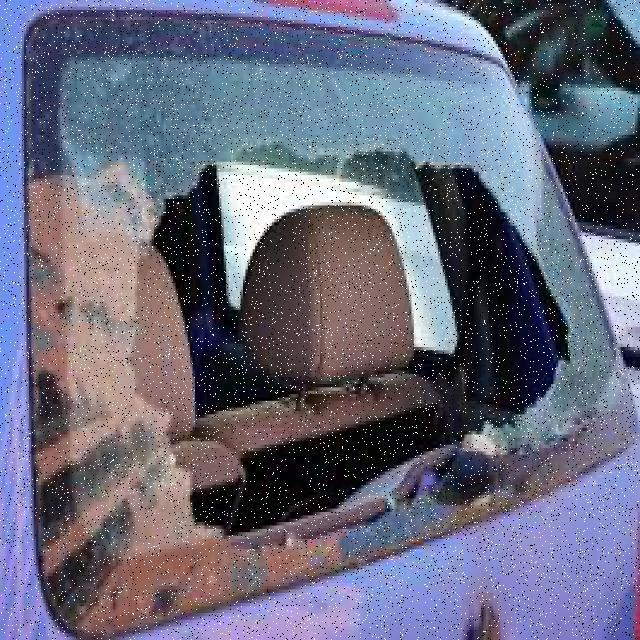Rear-windscreen-Damage: (22, 0, 630, 637)
